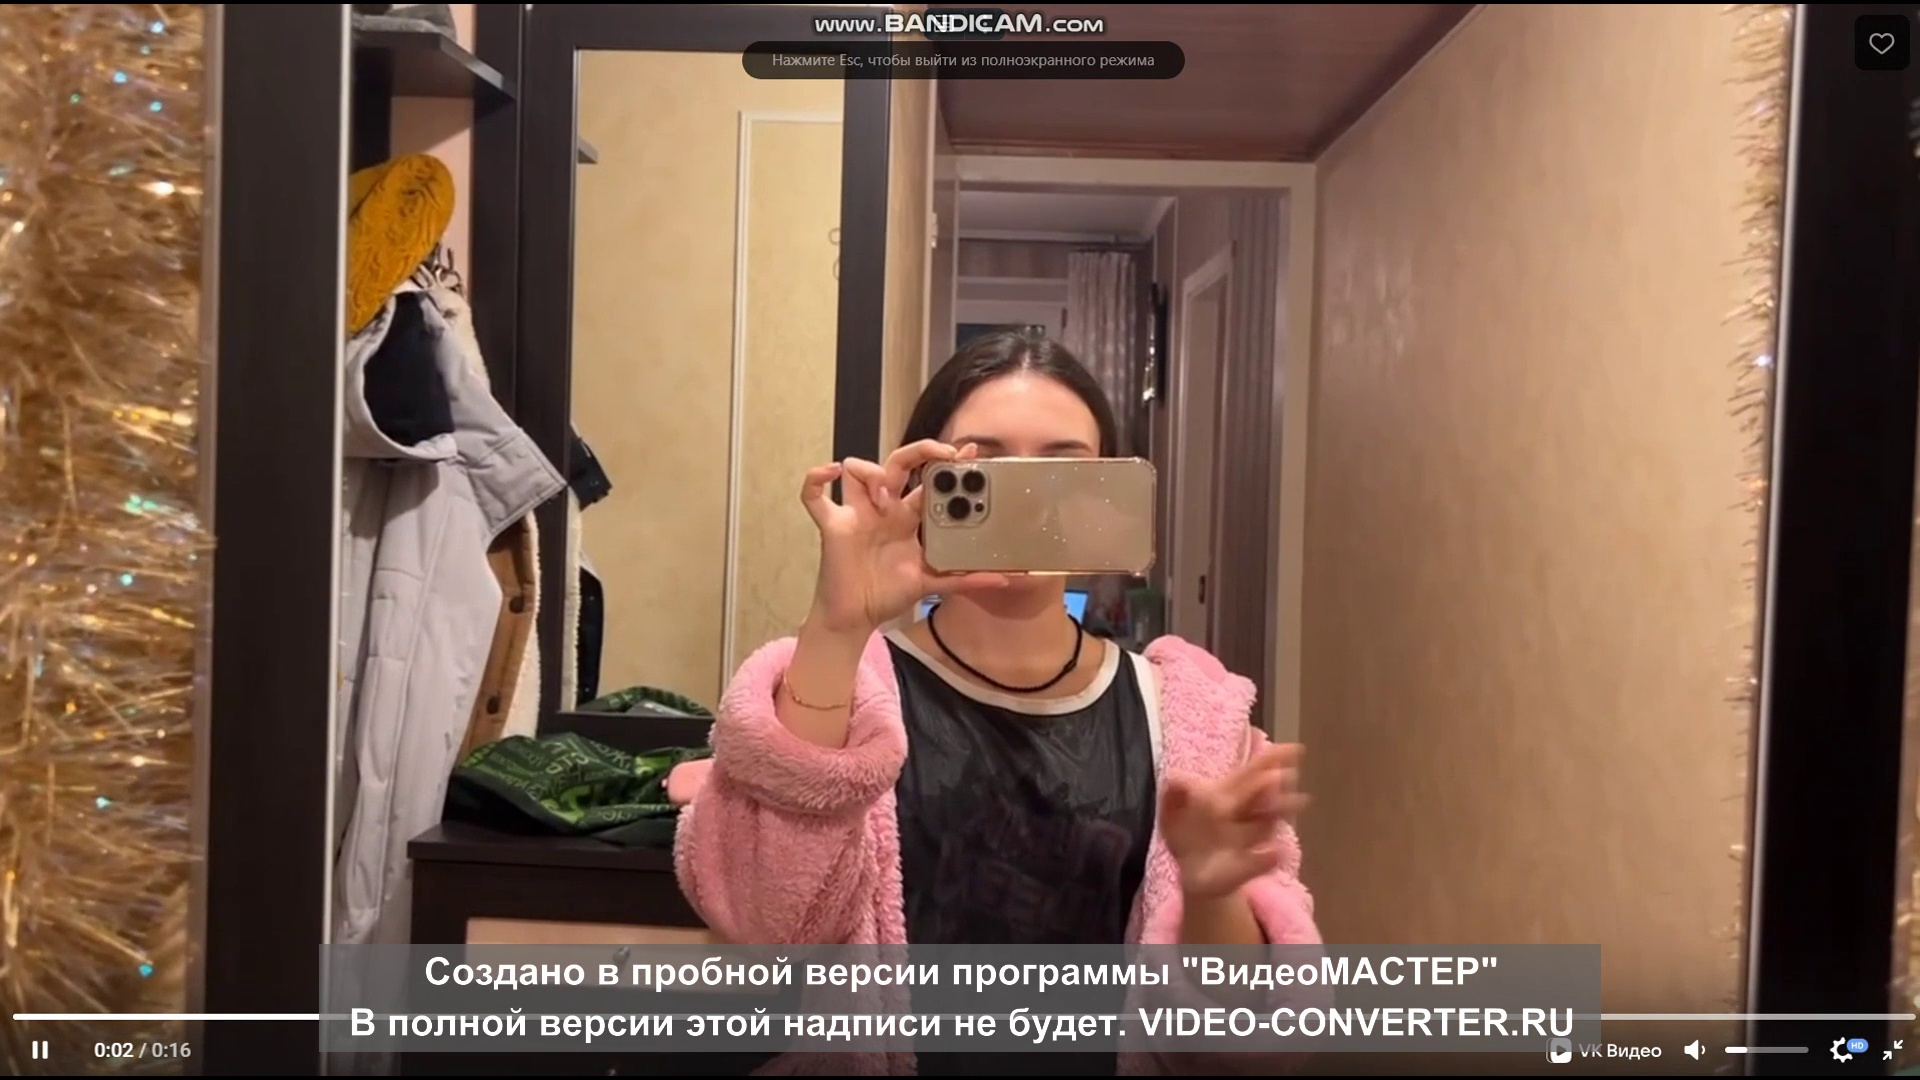Ладонь: (1155, 740, 1307, 894)
